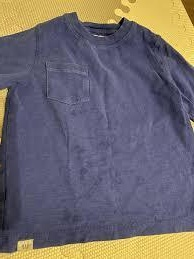oil: (78, 158, 94, 180), (66, 107, 83, 119)
